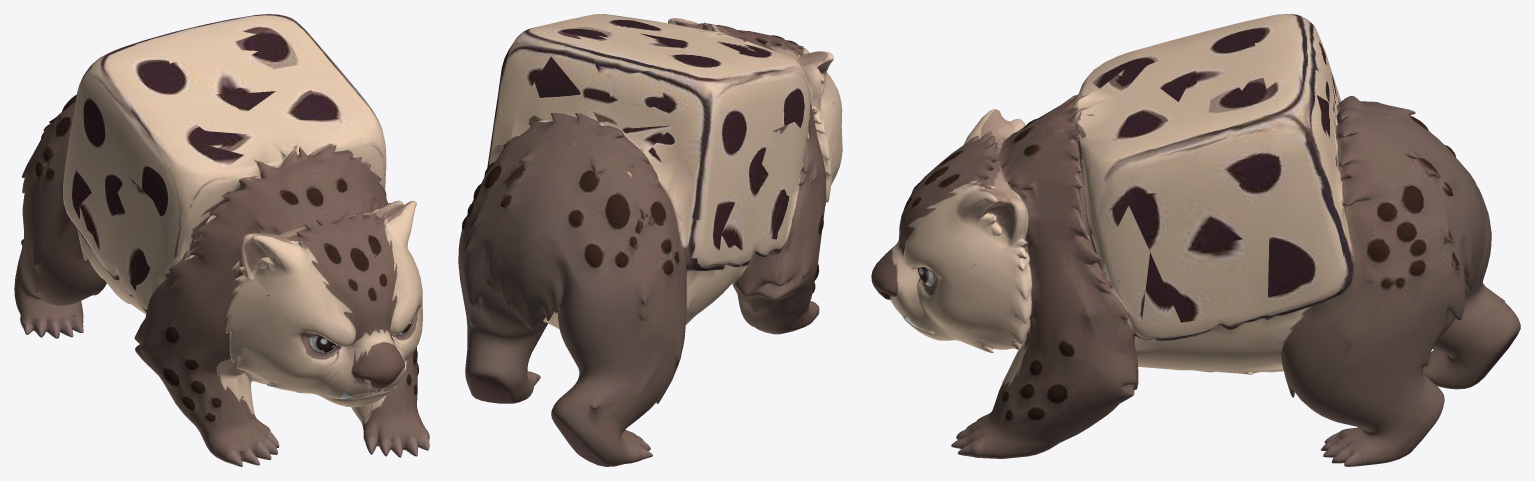
3 views of the same model, side by side, from view 1: azimuth 30°, elevation 25°; view 2: azimuth 150°, elevation 25°; view 3: azimuth 270°, elevation 25° (orthographic). The views are drawn at different scales.
Parts seen in each view (by area): view 1: Mesh_0; view 2: Mesh_0; view 3: Mesh_0.
Part boxes in pixels (x1,y1,x2,y2): Mesh_0: (14, 14, 429, 466); Mesh_0: (458, 14, 842, 466); Mesh_0: (871, 14, 1520, 466).
Size of the model in its own units: 0.896 by 1.15 by 1.9.
Materials: 1 (1 with a texture image).
